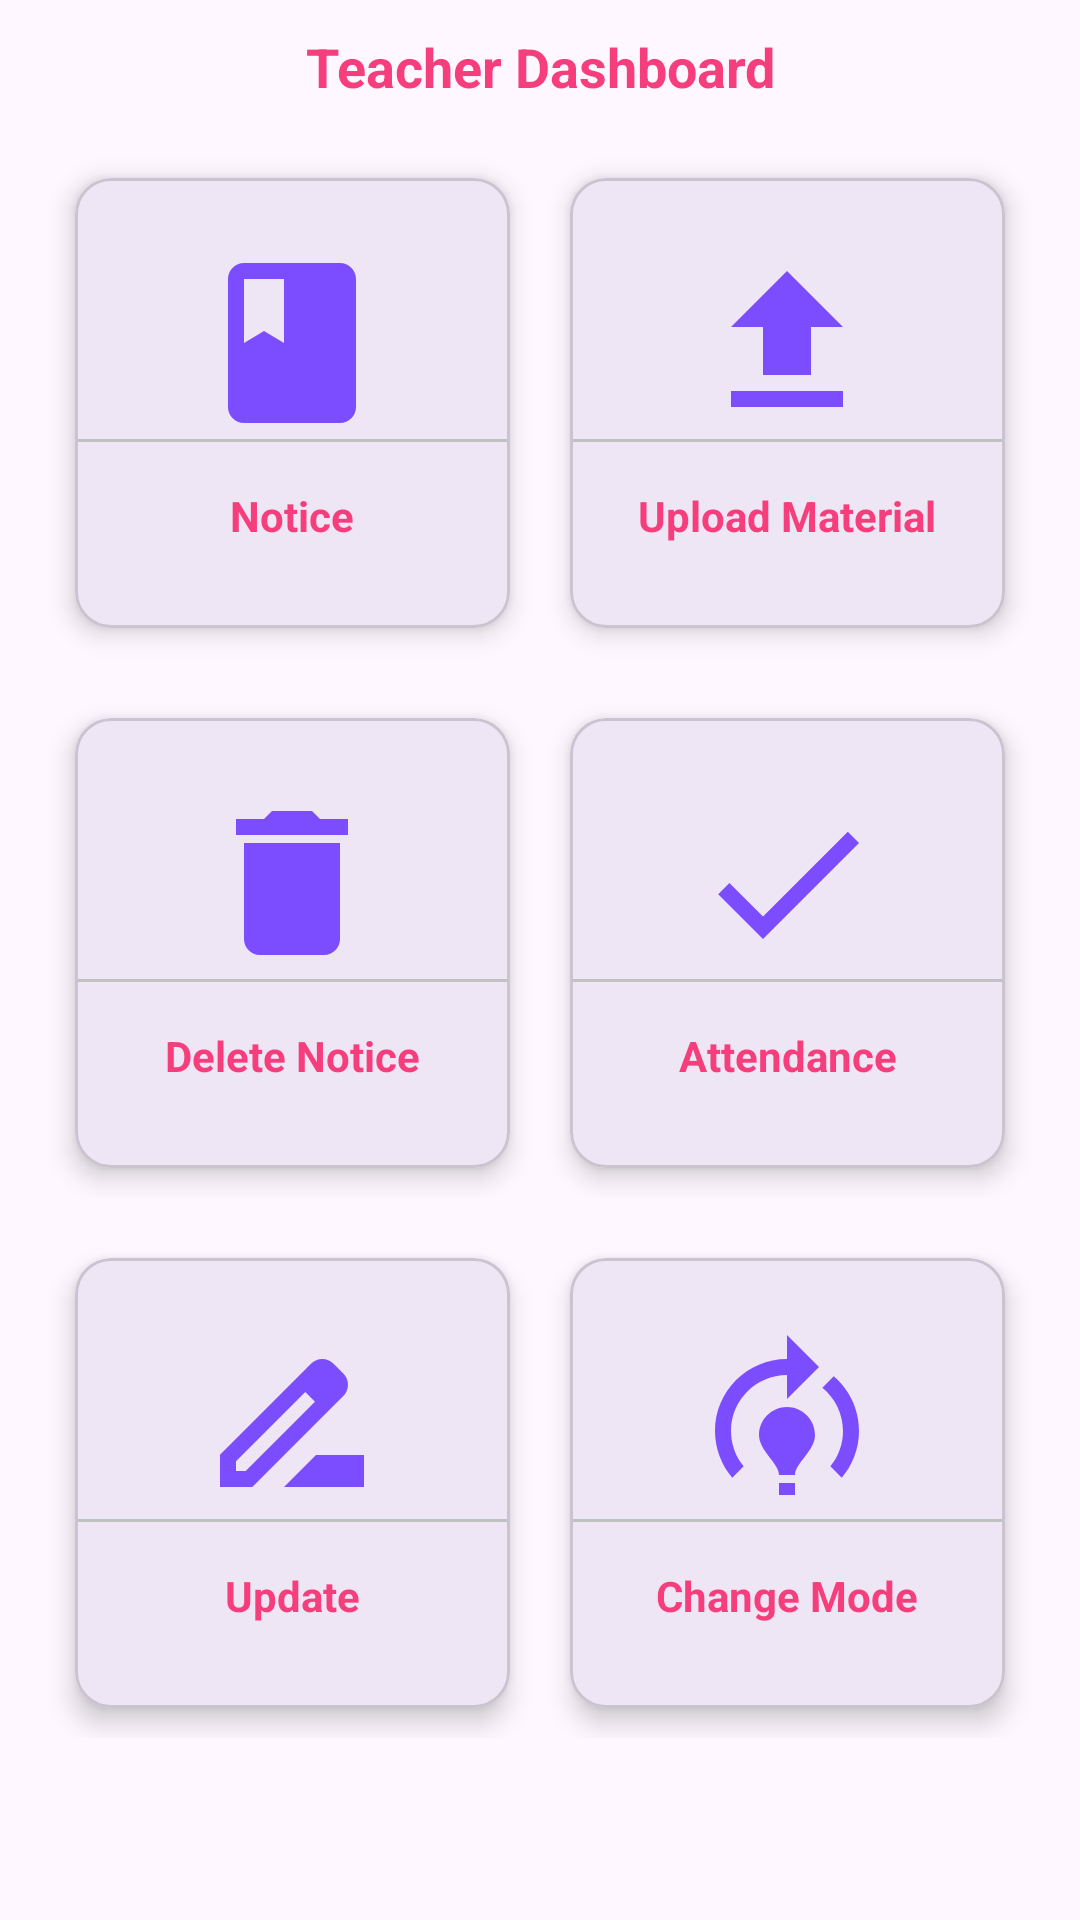

Icon click points for this 1080x1920 phone screenshot, format [x,y]:
attendence: [788,885]
fix: [292,1423]
uploade: [787,339]
